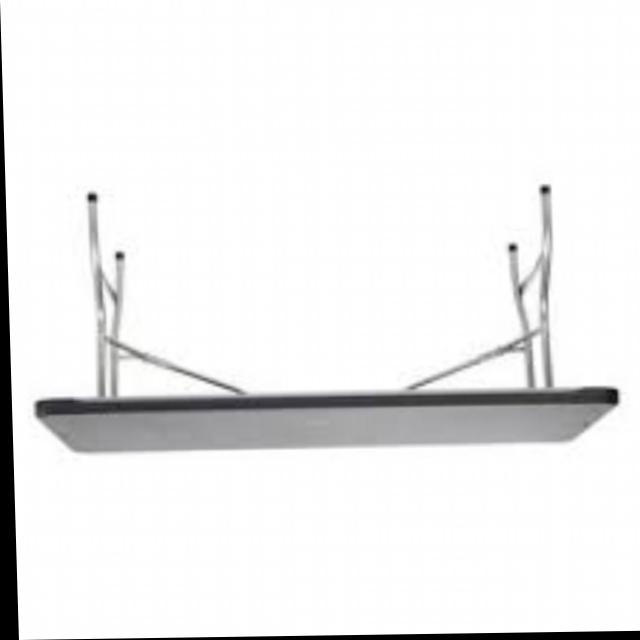Table: (14, 110, 628, 483)
